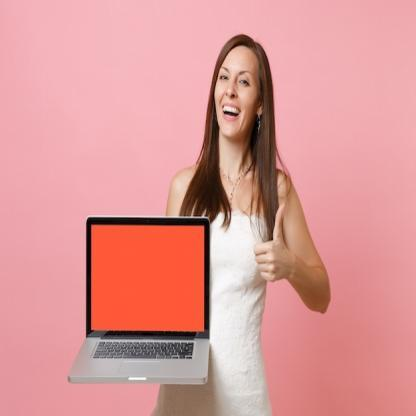thumb_up: (254, 202, 294, 294)
